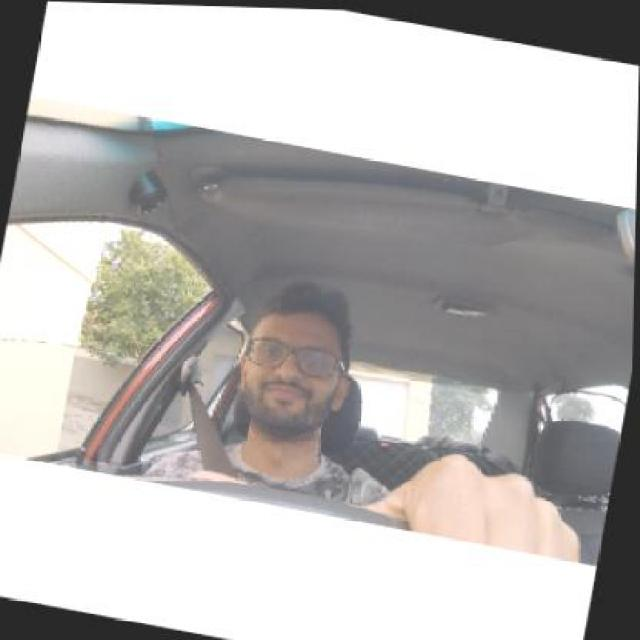person: (245, 296, 350, 434)
